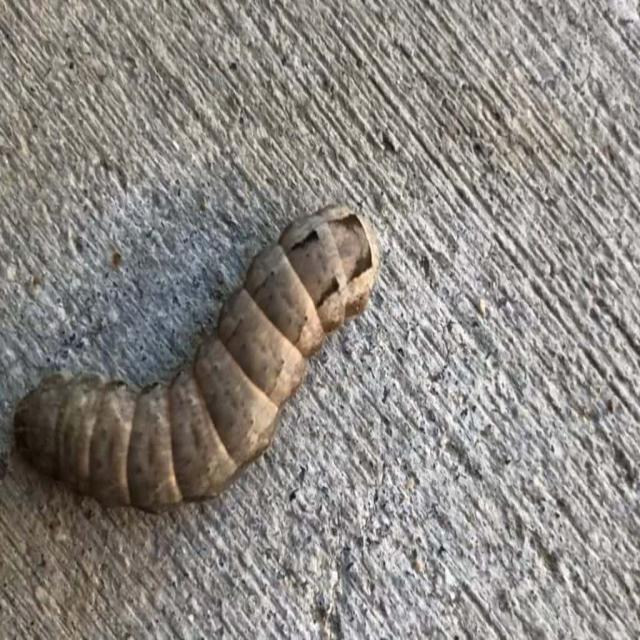worm: (14, 201, 383, 514)
